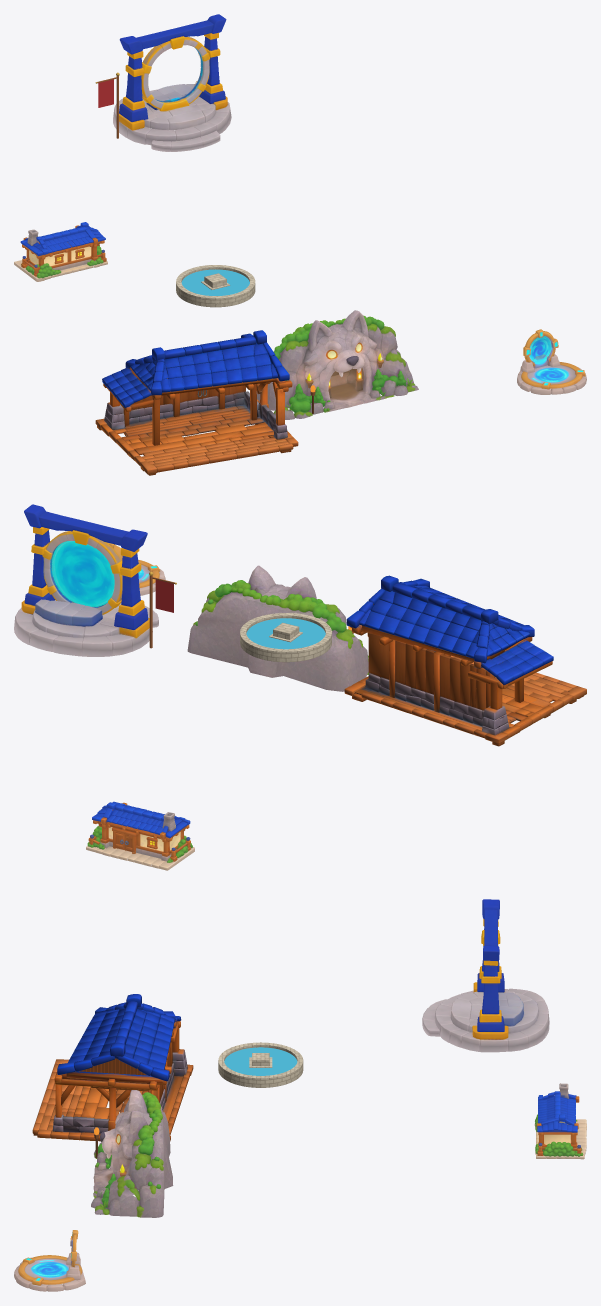
The model's file is village_lite.glb.
The picture shows the model from 3 angles, top to bottom: view 1: azimuth 30°, elevation 25°; view 2: azimuth 150°, elevation 25°; view 3: azimuth 270°, elevation 25°; orthographic projection. The views are drawn at different scales.
Visible parts, largest first — view 1: workshop, cave, portal, storehouse, portal_small, Fountain, FountainWater; view 2: workshop, portal, cave, storehouse, Fountain, FountainWater, portal_small, BannerCloth_red; view 3: workshop, portal, cave, storehouse, portal_small, Fountain, FountainWater.
Boxes of the visible parts, <box> form: workshop: <box>95,330,298,475</box>; cave: <box>256,310,418,419</box>; portal: <box>113,14,231,151</box>; storehouse: <box>14,222,107,281</box>; portal_small: <box>517,329,586,394</box>; Fountain: <box>176,265,255,307</box>; FountainWater: <box>181,269,249,295</box>; workshop: <box>344,575,586,746</box>; portal: <box>14,504,158,656</box>; cave: <box>187,565,368,691</box>; storehouse: <box>86,801,194,870</box>; Fountain: <box>240,613,331,662</box>; FountainWater: <box>246,618,325,649</box>; portal_small: <box>108,543,165,595</box>; BannerCloth_red: <box>155,579,173,612</box>; workshop: <box>32,994,193,1141</box>; portal: <box>422,899,549,1052</box>; cave: <box>91,1090,173,1217</box>; storehouse: <box>534,1083,586,1159</box>; portal_small: <box>14,1230,85,1291</box>; Fountain: <box>218,1042,303,1087</box>; FountainWater: <box>224,1047,297,1075</box>.
Size of the model in its own units: 37.76 by 20.36 by 40.49.
12 materials, 6 textured.
